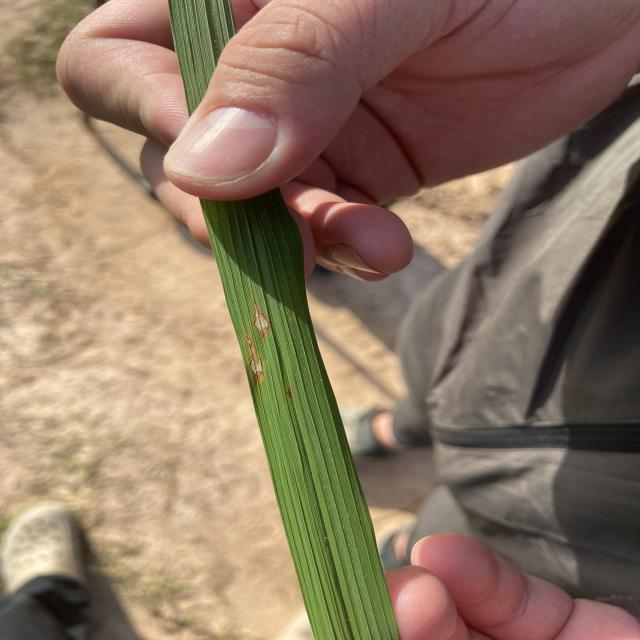Dao on: (255, 301, 269, 337), (250, 351, 263, 379), (245, 334, 253, 350)
